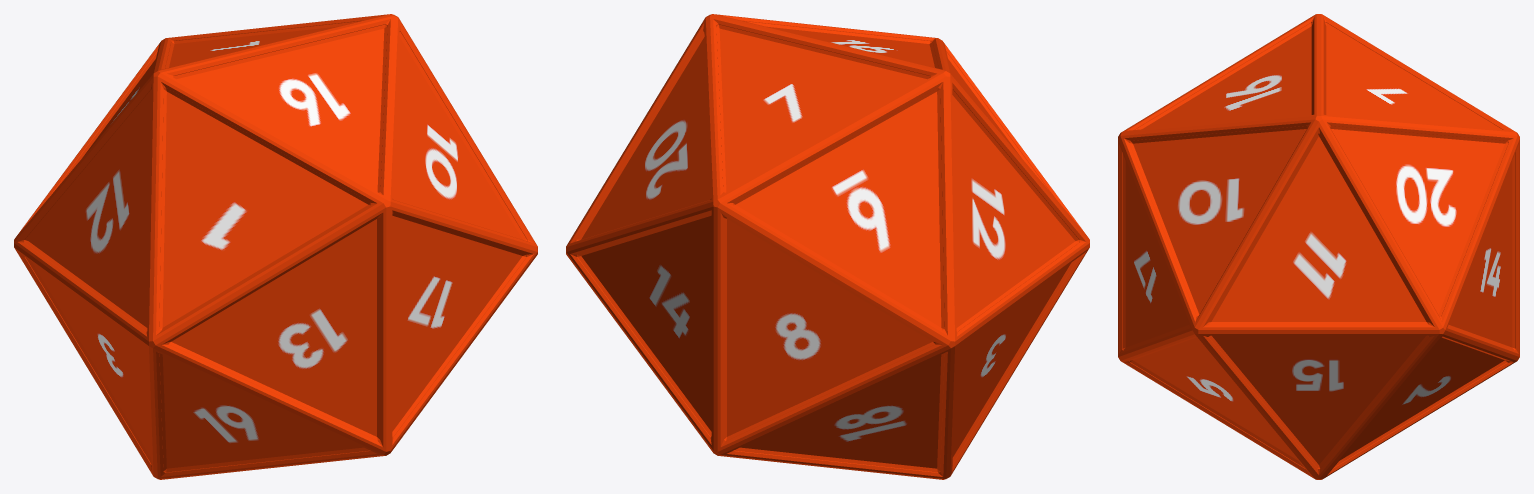
Rendered from Dice.fbx.
The picture shows the model from 3 angles, left to right: view 1: azimuth 30°, elevation 25°; view 2: azimuth 150°, elevation 25°; view 3: azimuth 270°, elevation 25°; orthographic projection. The views are drawn at different scales.
Visible parts, largest first — view 1: Solid; view 2: Solid; view 3: Solid.
Boxes of the visible parts, bbox=[...] form: Solid: bbox=[14, 14, 537, 479]; Solid: bbox=[566, 14, 1089, 479]; Solid: bbox=[1118, 14, 1519, 479].
Size of the model in its own units: 169 by 169 by 169.
